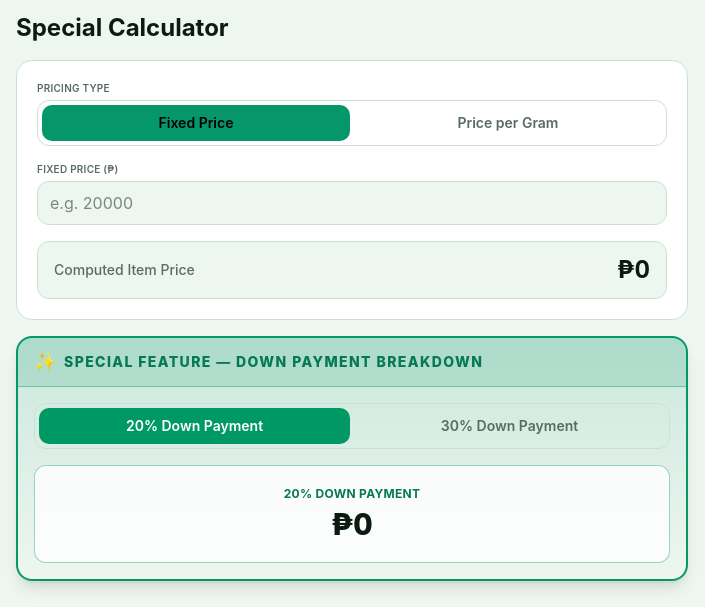
Special Calculator — Down Payment Breakdown (single-select) › FIXED PRICE: 20% and 30% compute correctly; only the selected card is visible
This screenshot has width=705, height=607.
Step 1. Type "20000" into the field with test id "calc-fixed-price" → (352, 203), box [37,181,667,225]
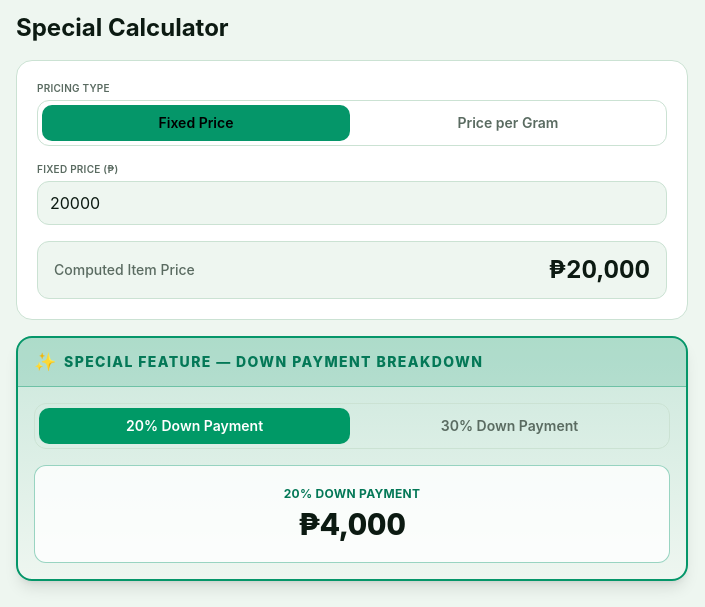
Check: the text with test id "calc-item-price" reads "₱20,000", box [549,255,650,284]
Check: the text with test id "calc-down-20" reads "₱4,000", box [298,506,406,542]
# Switch to 30% → ₱6,000, and the 20% card is gone (one at a time)
Step 2. Click the button with test id "calc-dp-toggle-30" → (510, 426), box [354,408,665,444]
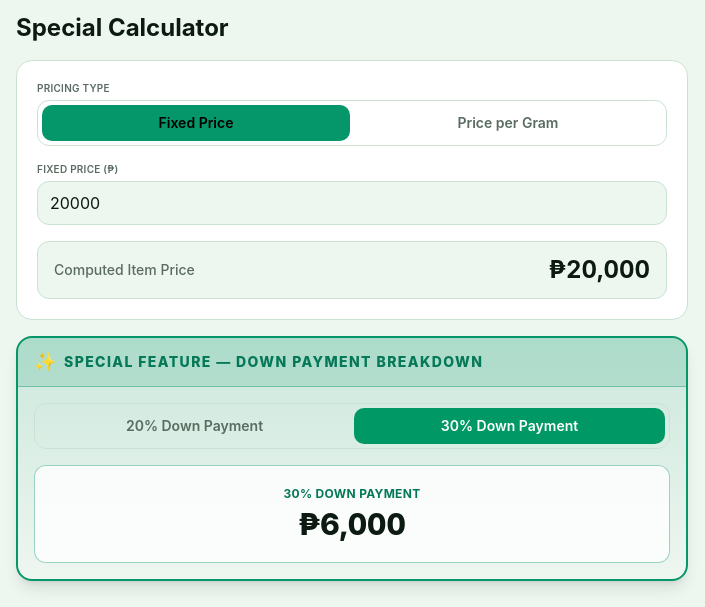
Check: the text with test id "calc-down-30" reads "₱6,000", box [298,506,406,542]
